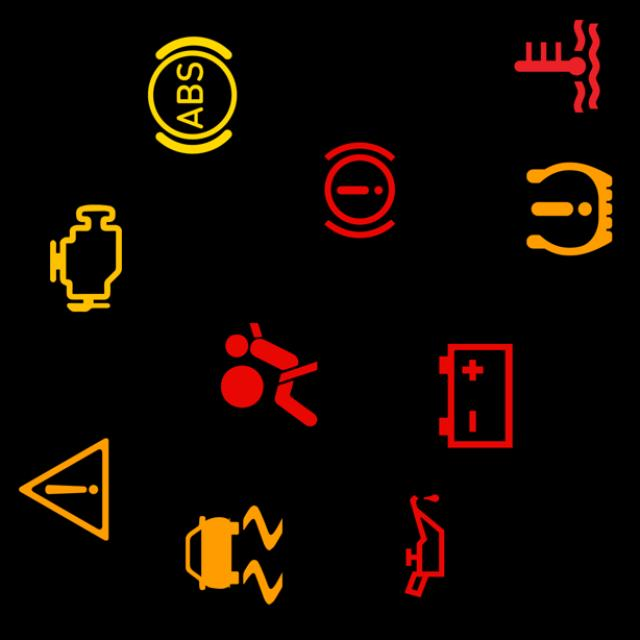Anti Lock Braking System: (128, 32, 256, 160)
Braking System Issue: (296, 126, 424, 254)
Charging System Issue: (412, 332, 540, 459)
Check Engine: (22, 194, 150, 322)
Electronic Stability Problem -ESP-: (170, 491, 298, 619)
Engine Overheating Warning Light: (493, 2, 621, 130)
Low Engine Oil Warning Light: (361, 482, 489, 610)
Low Tire Pressure Warning Light: (506, 145, 634, 273)
Master warning light: (0, 426, 128, 554)
SRS-Airbag: (205, 311, 334, 438)
